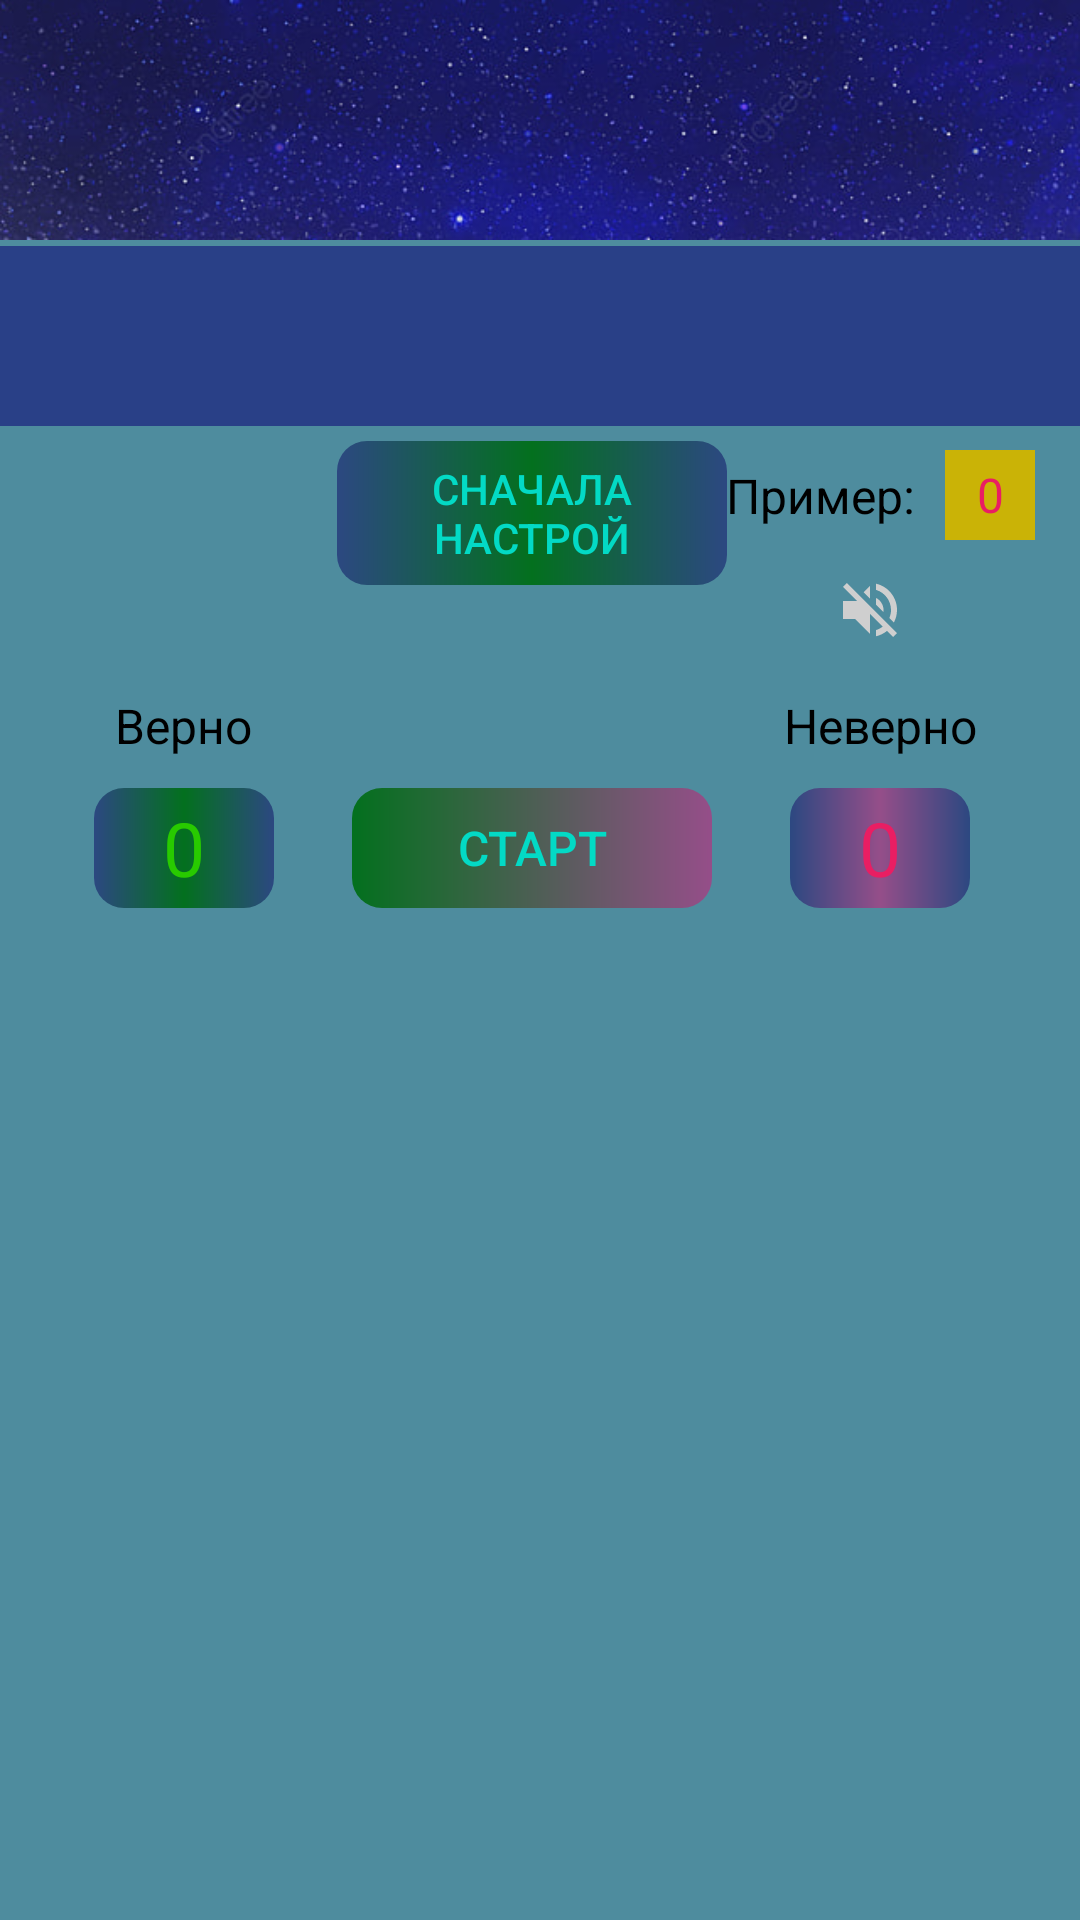

Screen size 1080 x 1920. Icon name, then its center in pixels as [x,y]:
music: [870,610]
